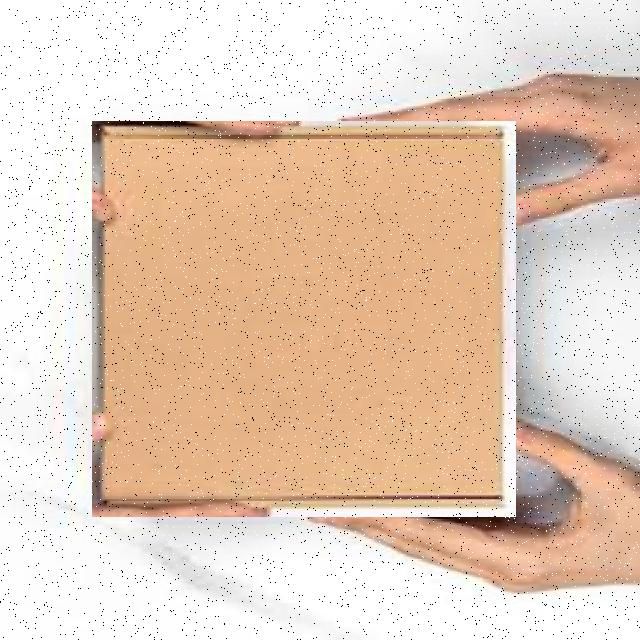normal: (92, 121, 516, 517)
